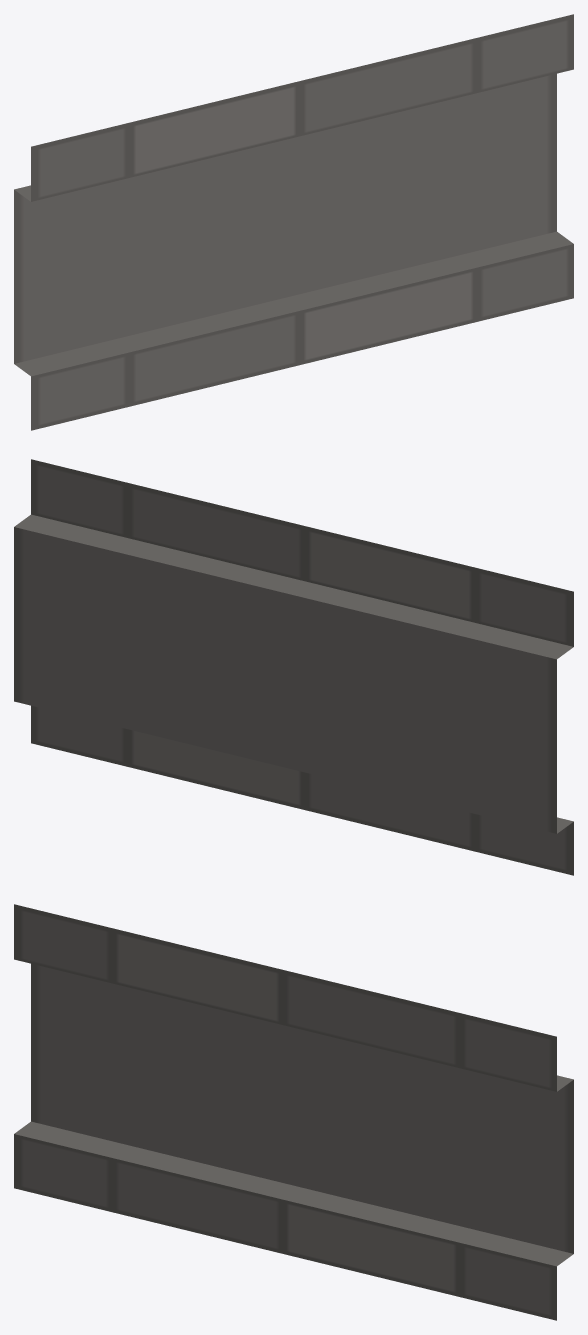
The model's file is SD_Env_Wall_Half_01.fbx.
The picture shows the model from 3 angles, top to bottom: view 1: azimuth 30°, elevation 25°; view 2: azimuth 150°, elevation 25°; view 3: azimuth 330°, elevation 25°; orthographic projection.
Visible parts, largest first — view 1: SD_Env_Wall_Half_01; view 2: SD_Env_Wall_Half_01; view 3: SD_Env_Wall_Half_01.
Part boxes in pixels (box(x1,y1,x2,y2)): SD_Env_Wall_Half_01: box(14, 14, 573, 430); SD_Env_Wall_Half_01: box(14, 459, 573, 875); SD_Env_Wall_Half_01: box(14, 904, 573, 1320).
Size of the model in its own units: 5 by 2.5 by 0.272.
